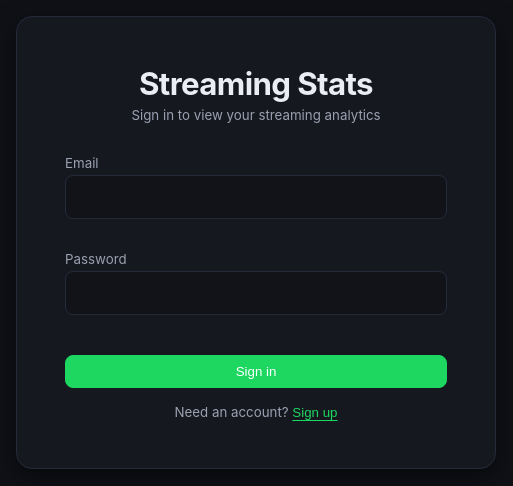
Test: LoginPage › toggles to sign up mode
The image size is (513, 486).
What coordinates should you click on to do the following:
click the button "Sign up"
I would click on:
 (315, 412)
Its box is [292, 404, 338, 420].
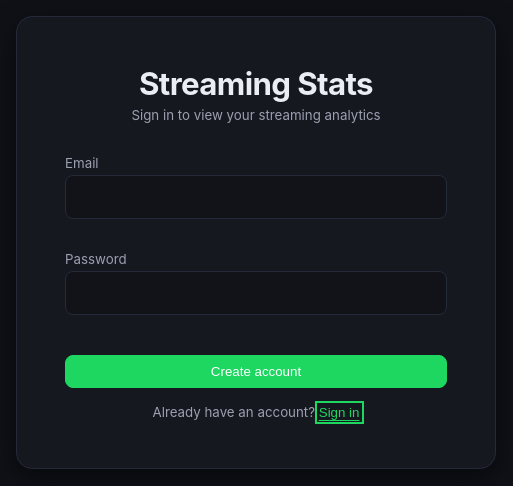
Now the button "Create account" is shown, box [65, 354, 447, 388]
